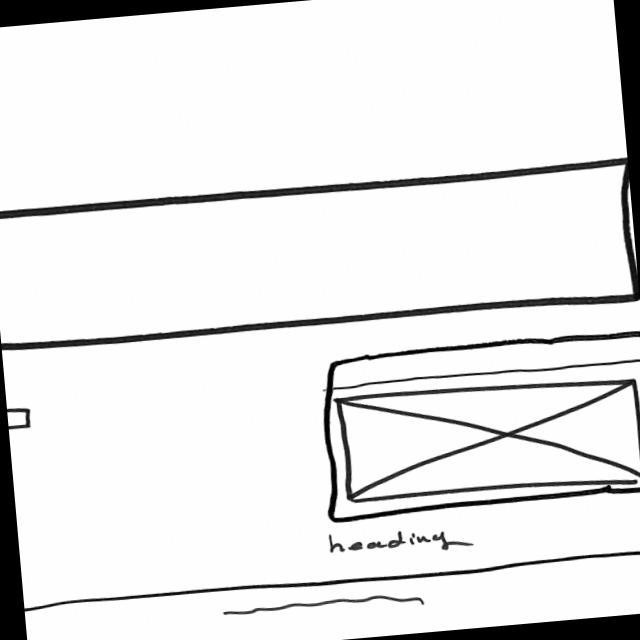container: (1, 153, 640, 358), (317, 329, 640, 524)
icon-button: (8, 404, 35, 432)
image: (335, 369, 640, 508)
label: (325, 521, 472, 561)
text: (221, 589, 427, 624)
